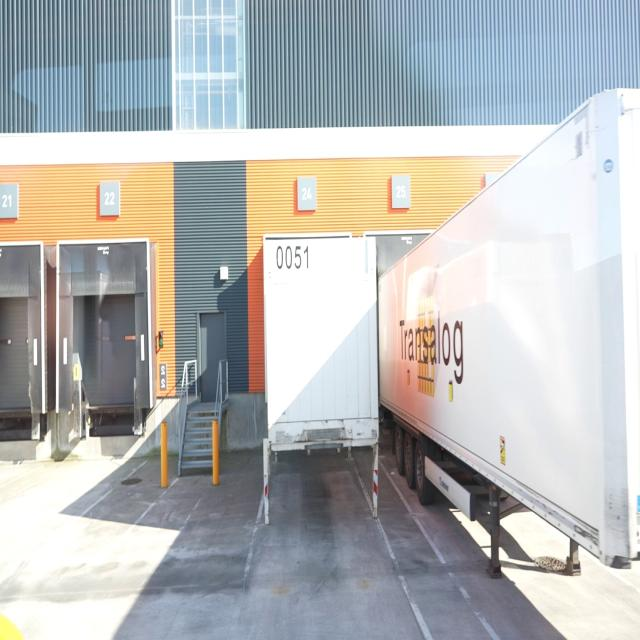Code: (271, 240, 315, 277)
